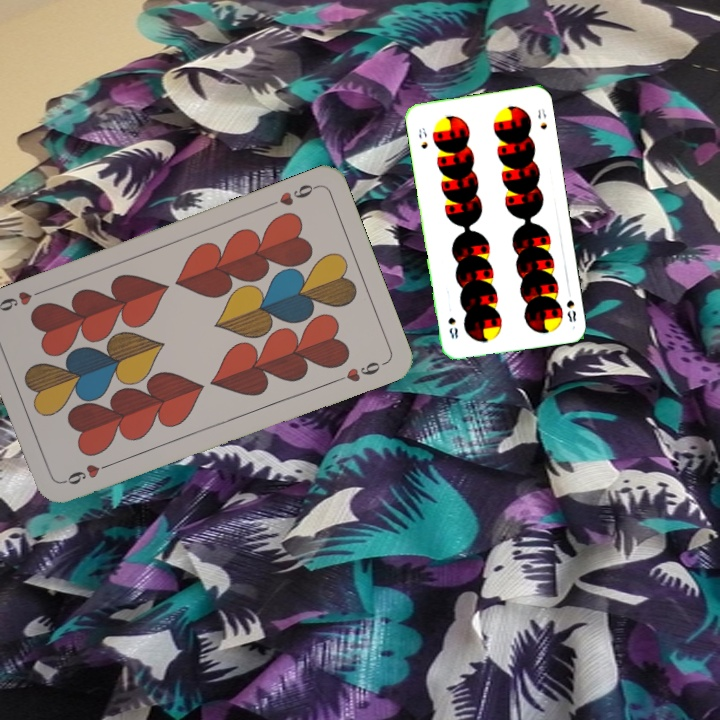H9: (59, 458, 116, 488), (264, 180, 321, 209)
S8: (562, 286, 578, 324), (414, 124, 430, 152)
